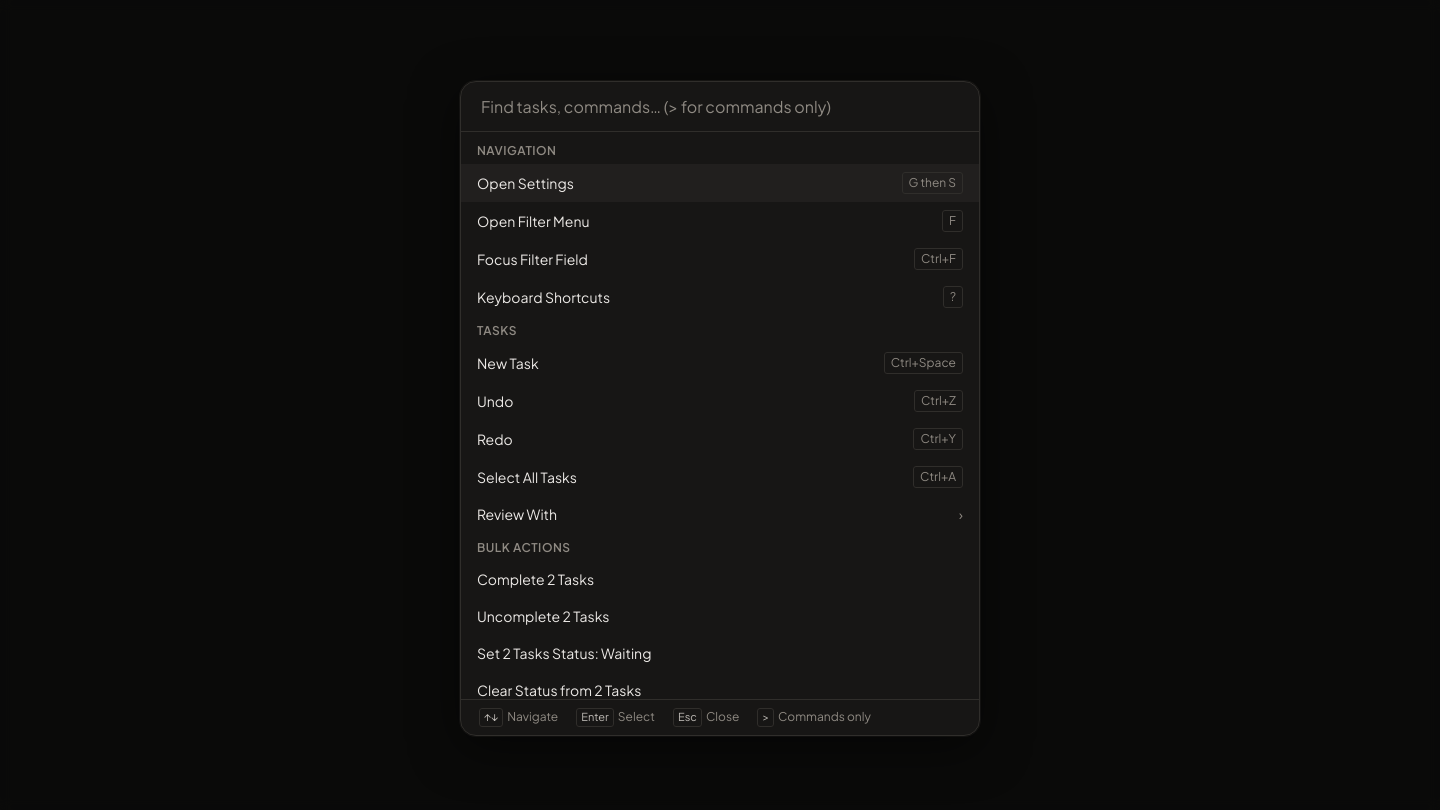
Test: CommandPalette › search › highlights the letters each word matched in the command name
Type "review marc" into the dropdown. click: (720, 106)
box: [481,96,959,117]
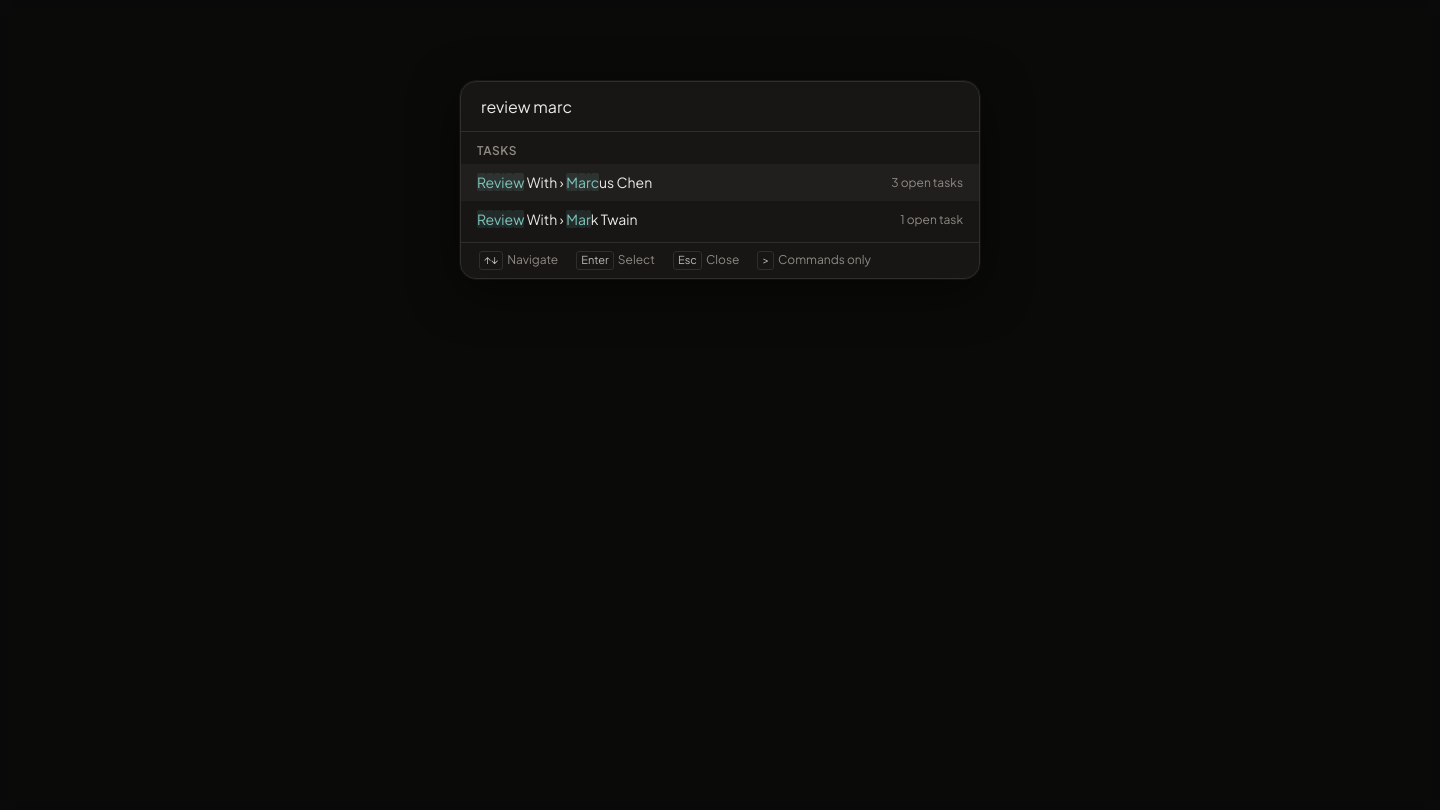
Expected: the element showing "Review With › Marcus Chen" is shown, [477,173,652,191]
